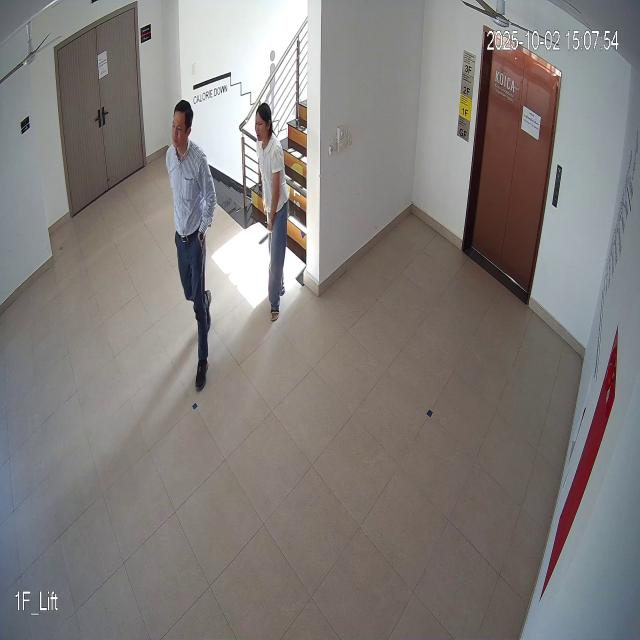face: (170, 99, 195, 155), (254, 101, 273, 145)
